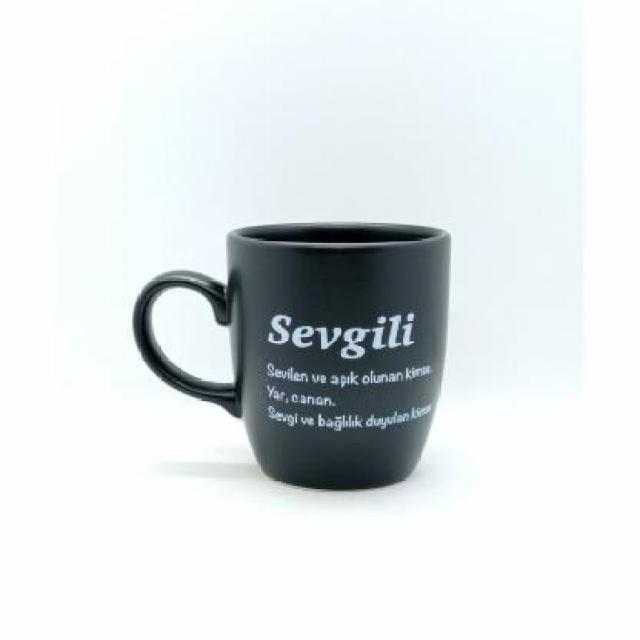taza: (129, 222, 453, 492)
